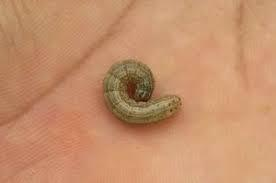fallarmy_worm: (104, 51, 182, 131)
